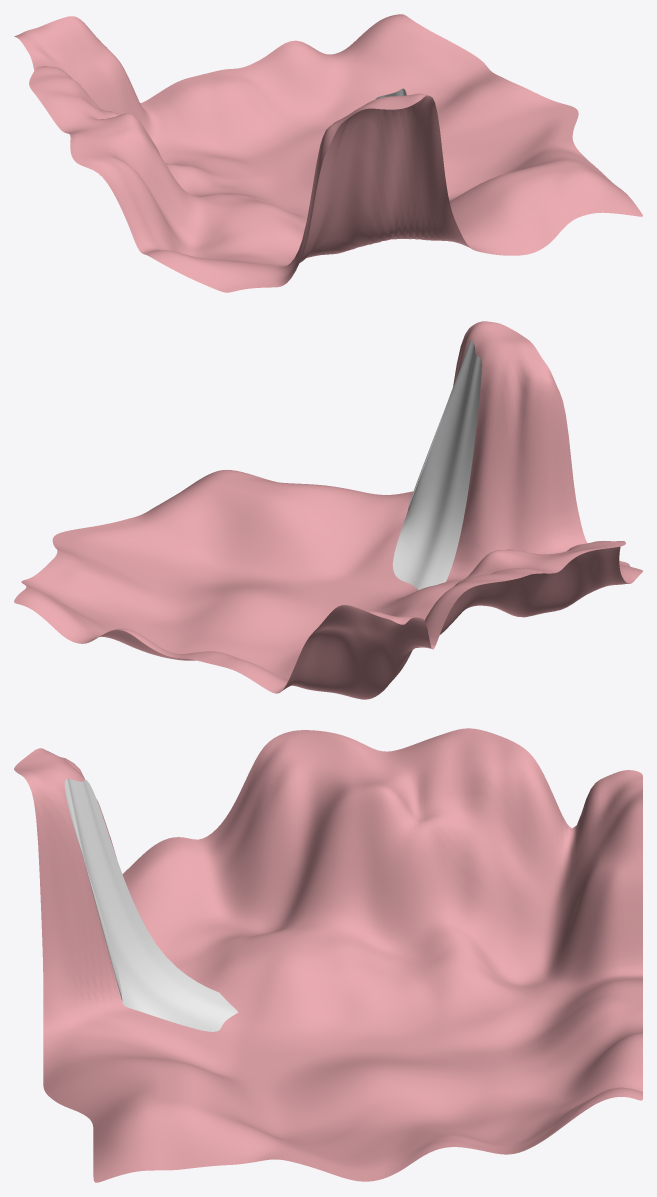
Rendered from RainbowTErrain.fbx.
The picture shows the model from 3 angles, top to bottom: view 1: azimuth 30°, elevation 25°; view 2: azimuth 150°, elevation 25°; view 3: azimuth 270°, elevation 25°; orthographic projection. The views are drawn at different scales.
Parts seen in each view (by area): view 1: Plane; view 2: Plane, Plane.001; view 3: Plane, Plane.001.
Boxes of the visible parts, x1,y1,x2,y2 form: Plane: (14,14,642,292); Plane: (14,321,642,699); Plane.001: (392,339,481,589); Plane: (14,728,642,1182); Plane.001: (64,778,238,1031).
Bounding box in the file's own units: 7036 × 2634 × 5723.
